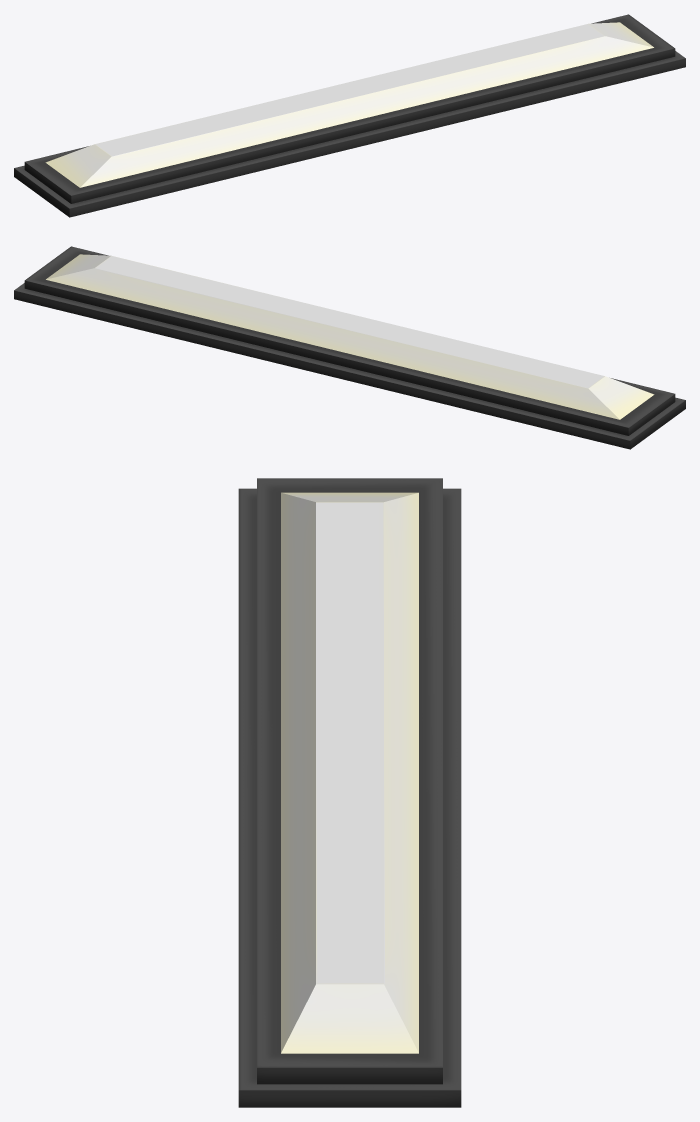
File: Light0.FBX
The picture shows the model from 3 angles, top to bottom: view 1: azimuth 30°, elevation 25°; view 2: azimuth 150°, elevation 25°; view 3: azimuth 270°, elevation 25°; orthographic projection. The views are drawn at different scales.
Parts seen in each view (by area): view 1: Box067; view 2: Box067; view 3: Box067.
Boxes of the visible parts, bbox=[...] form: Box067: bbox=[14, 14, 685, 217]; Box067: bbox=[14, 246, 685, 449]; Box067: bbox=[238, 478, 461, 1107].
Bounding box in the file's own units: 38.41 × 1.9 × 6.01.
1 material, 1 textured.
